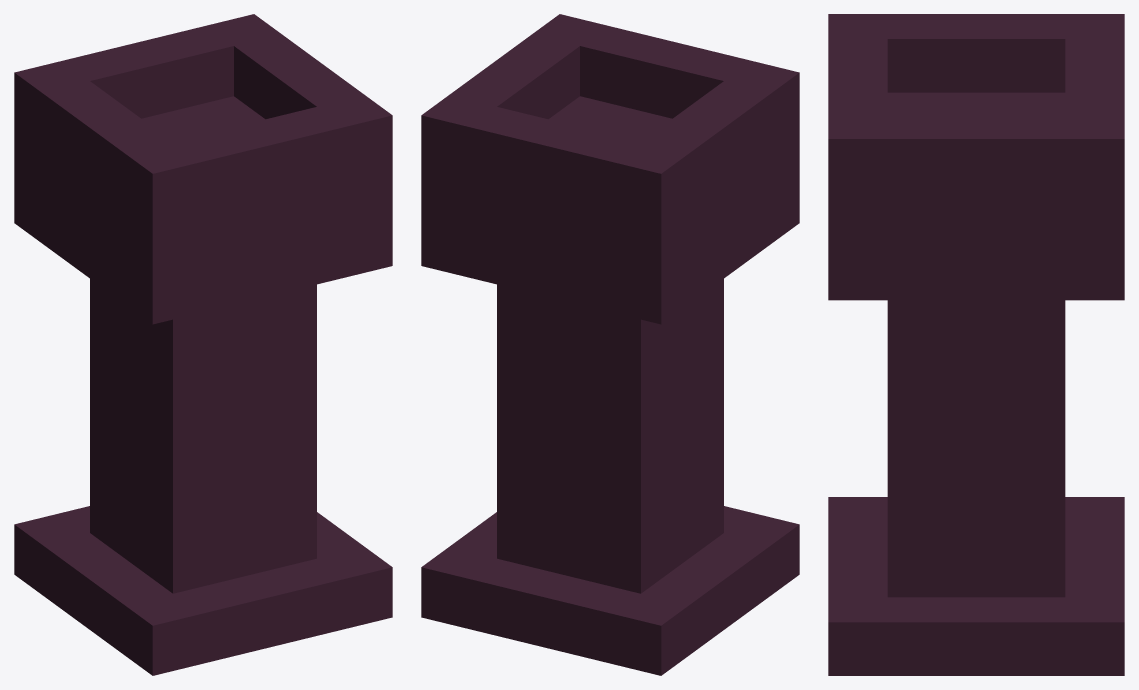
Rendered from ground_torch_c_b_unlit.obj.
3 renders of one model, left to right at view 1: azimuth 30°, elevation 25°; view 2: azimuth 150°, elevation 25°; view 3: azimuth 270°, elevation 25°, orthographic. The views are drawn at different scales.
Size of the model in its own units: 0.5 by 1 by 0.5.
1 material, 1 textured.
